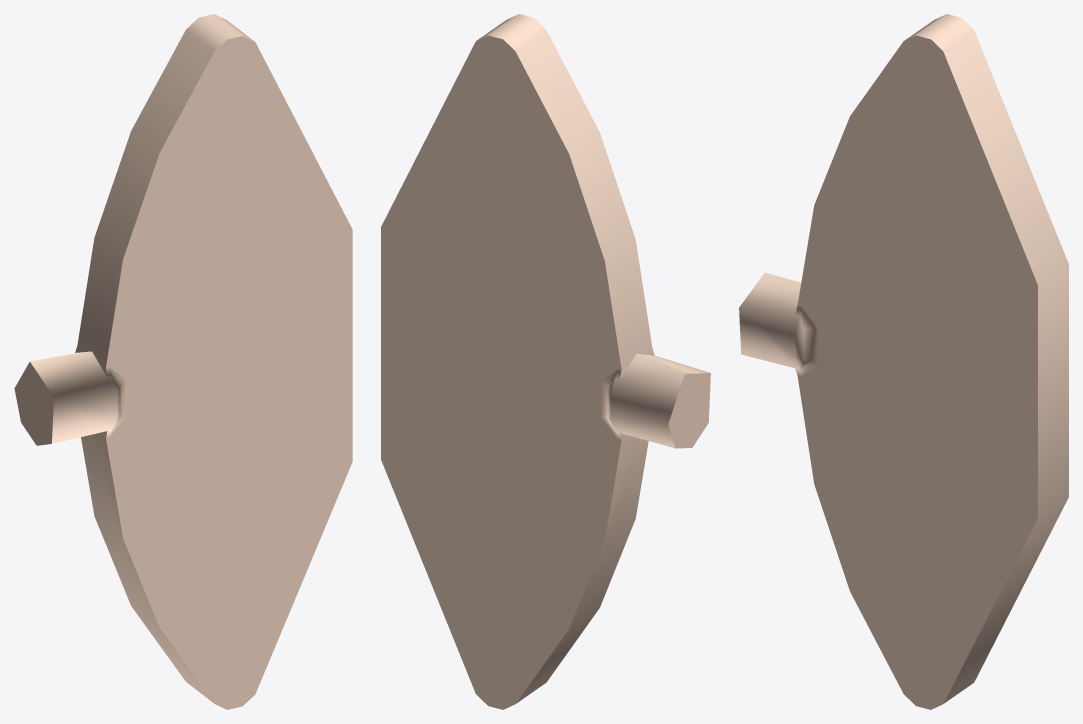
File: Loquet porte - cle.obj
The picture shows the model from 3 angles, left to right: view 1: azimuth 30°, elevation 25°; view 2: azimuth 150°, elevation 25°; view 3: azimuth 330°, elevation 25°; orthographic projection.
Parts seen in each view (by area): view 1: Face_3, Face_1, Face_8, Face_2, Face_9, Face_7; view 2: Face_4, Face_1, Face_2, Face_8, Face_9, Face_7; view 3: Face_3, Face_6, Face_8, Face_7.
Part boxes in pixels (left/top/right/bottom): Face_3: left=106, top=36, right=352, bottom=709; Face_1: left=75, top=30, right=214, bottom=377; Face_8: left=30, top=351, right=116, bottom=443; Face_2: left=81, top=431, right=214, bottom=703; Face_9: left=14, top=362, right=53, bottom=445; Face_7: left=186, top=14, right=254, bottom=51; Face_4: left=381, top=35, right=621, bottom=709; Face_1: left=515, top=30, right=654, bottom=378; Face_2: left=516, top=433, right=648, bottom=703; Face_8: left=610, top=354, right=709, bottom=448; Face_9: left=668, top=373, right=710, bottom=448; Face_7: left=477, top=14, right=545, bottom=51; Face_3: left=797, top=35, right=1037, bottom=709; Face_6: left=943, top=30, right=1068, bottom=703; Face_8: left=739, top=272, right=801, bottom=369; Face_7: left=904, top=14, right=973, bottom=51.
Bounding box in the file's own units: 0.0117 × 0.0249 × 0.00301.
